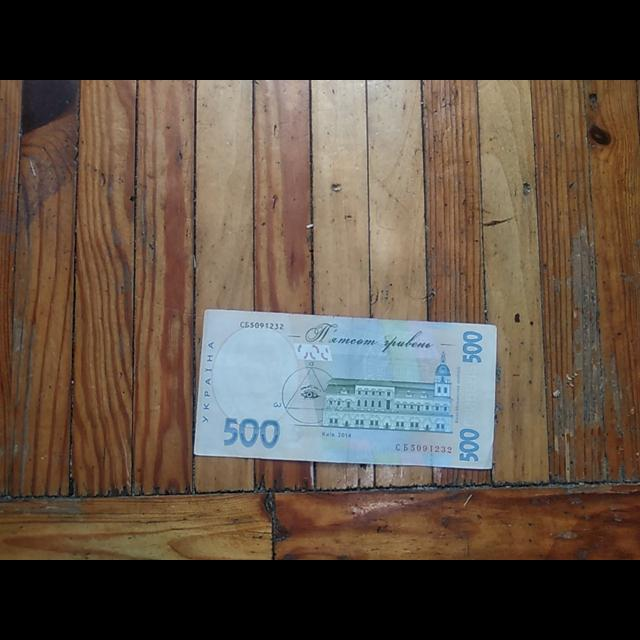500uah: (194, 310, 499, 469)
